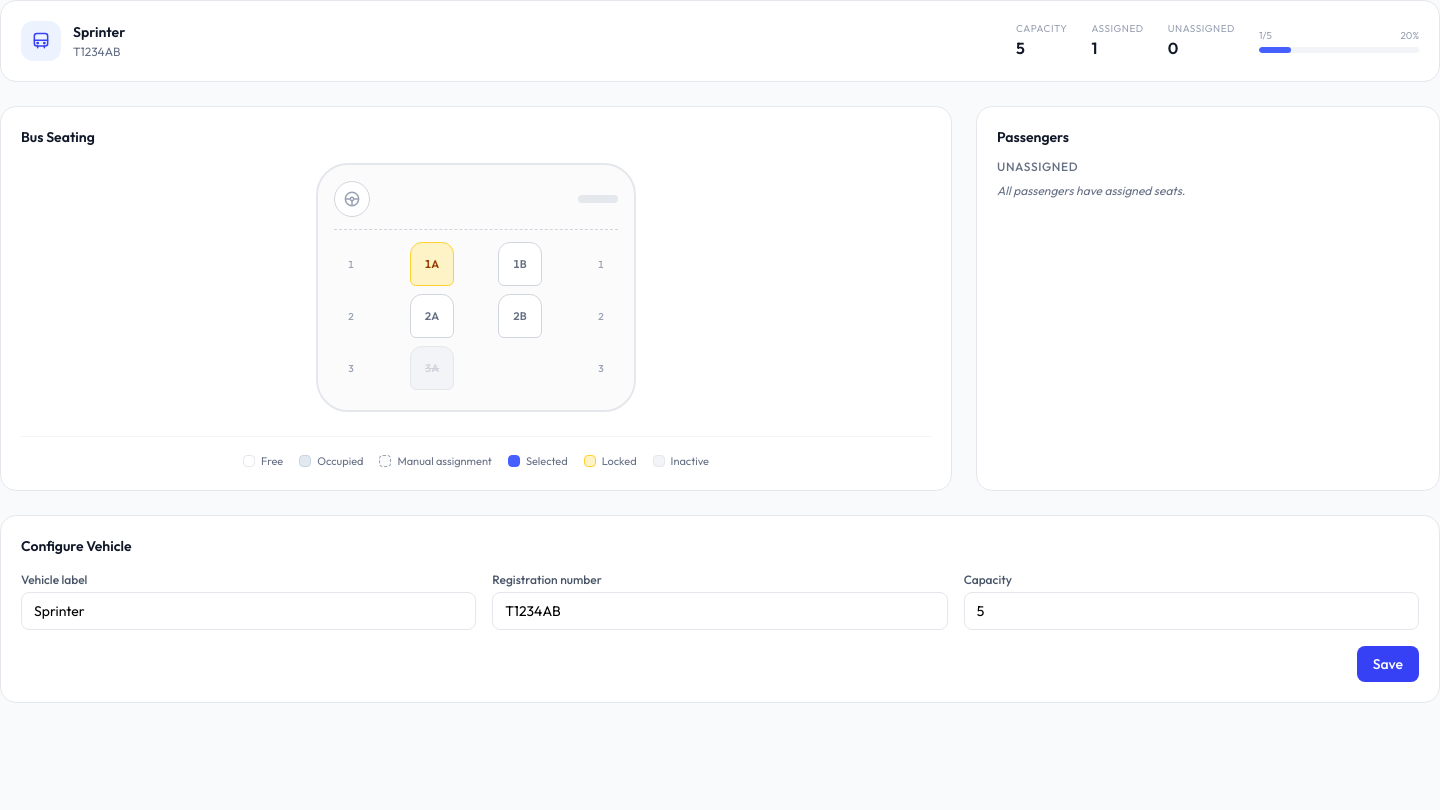
it: ManualBusSeating › does not allow locked passenger to be moved or unassigned
Click the button "1A" at [432, 264], box [410,242,454,286]
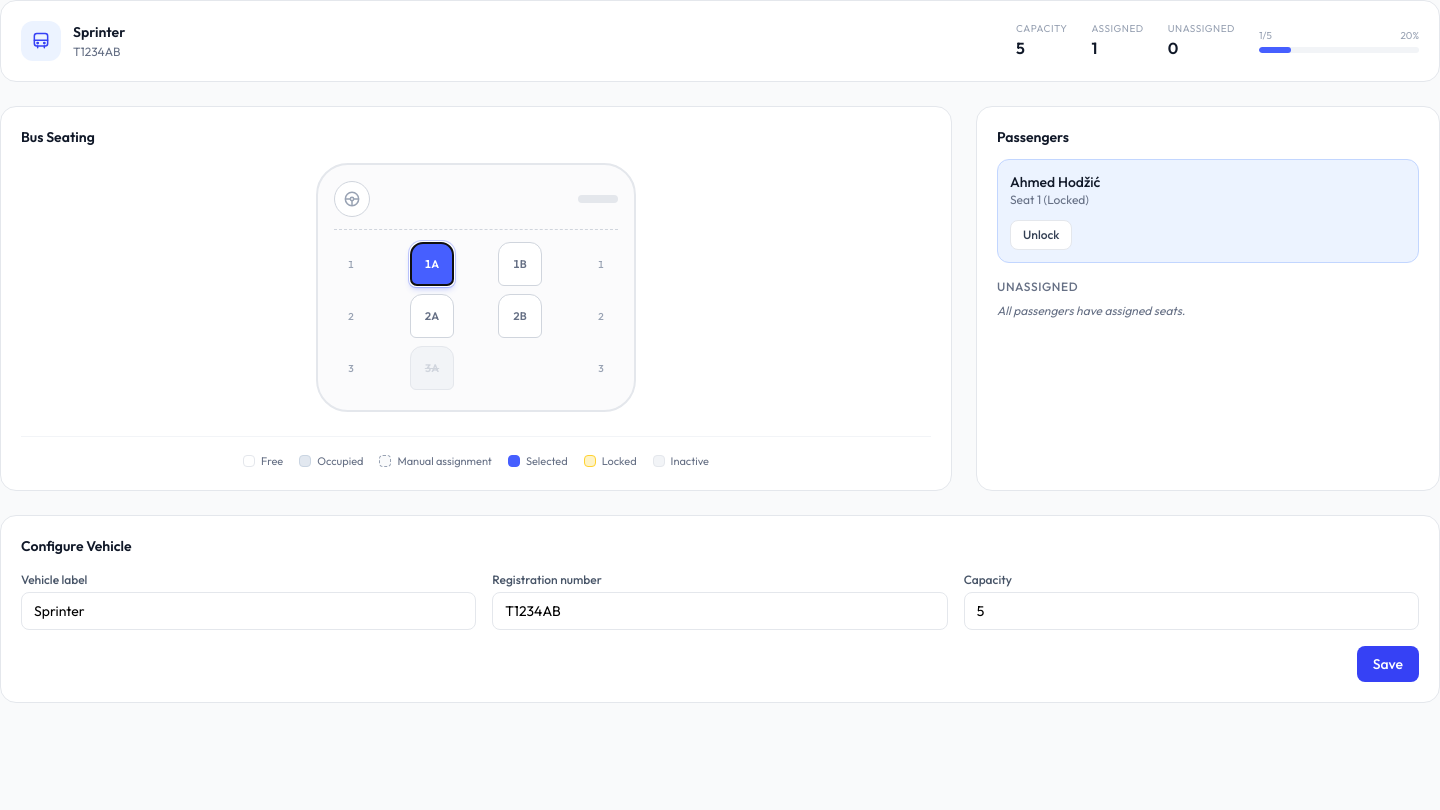
Check: the button "Unlock" is shown, box [1010,220,1072,250]
